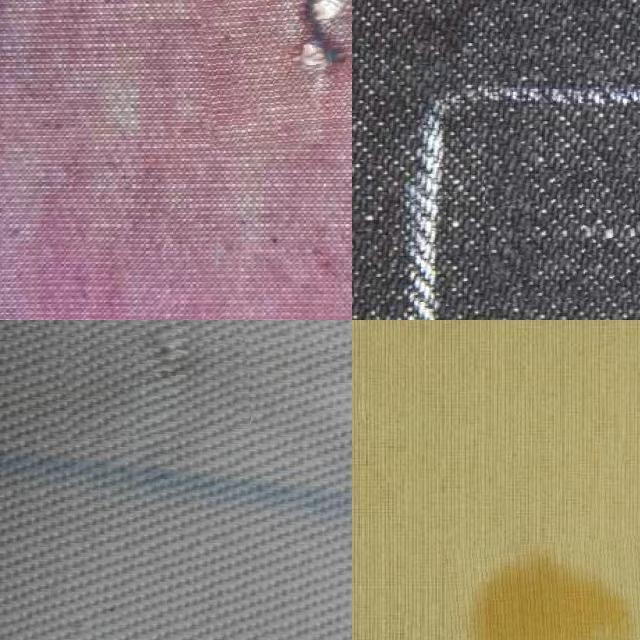Thread_other: (446, 539, 640, 640)
stains: (189, 0, 352, 146), (59, 320, 247, 436), (485, 165, 640, 300)
